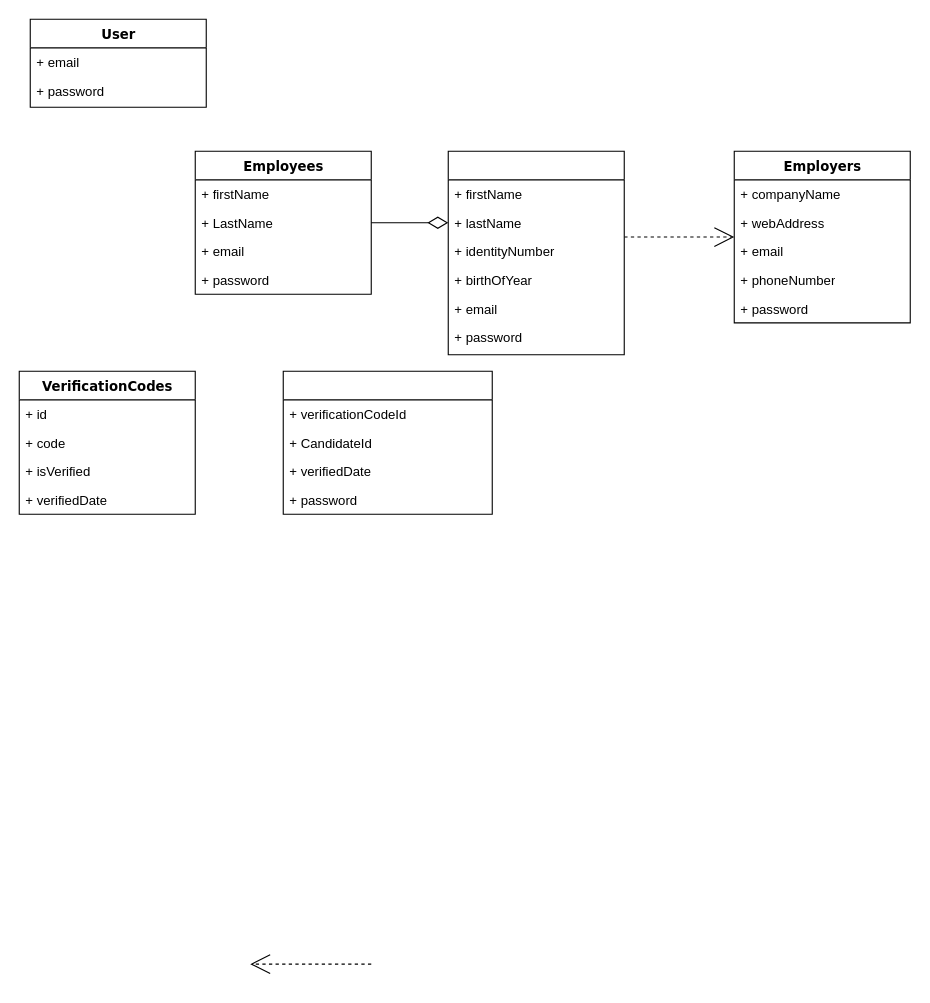
Image size: 930x1003. Some labels were removed from this diagram. Here are the shapes that lost their labels. From the top down, the box of each, then its label:
(447, 150, 624, 355): Candidates
(282, 370, 492, 514): VerificationCodeCandidates
